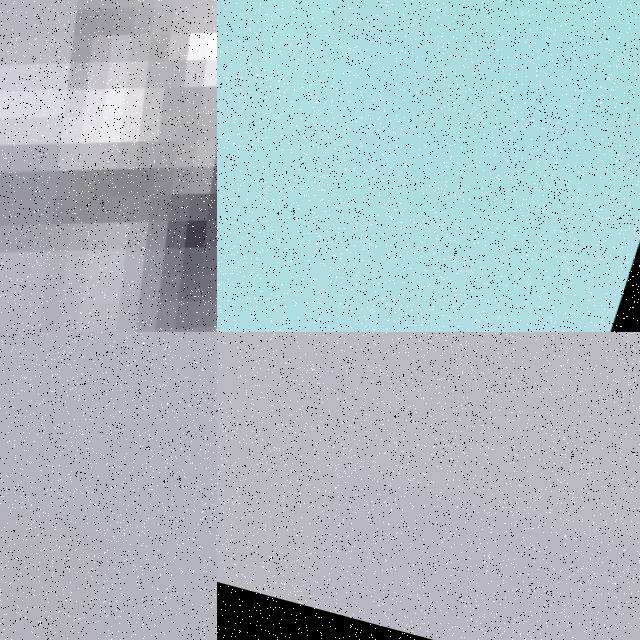drone: (217, 0, 640, 332), (0, 0, 217, 332)
